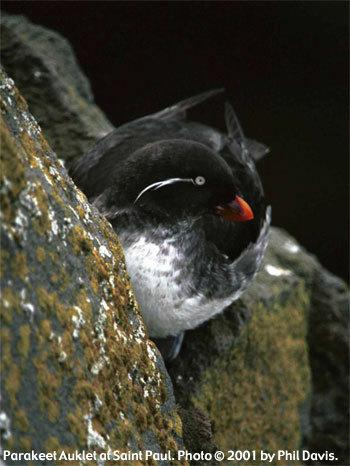007.Parakeet_Auklet: (62, 84, 281, 338)
